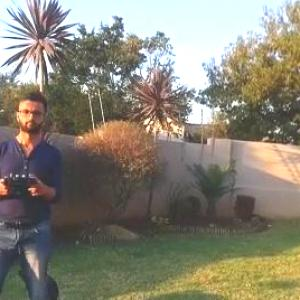follow: (0, 86, 66, 299)
